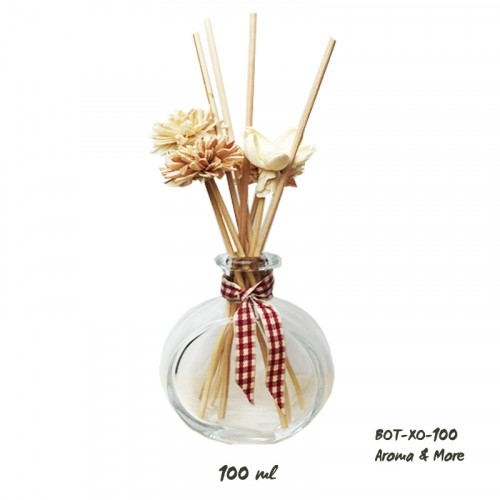glass_bottleww: (130, 33, 385, 482)
